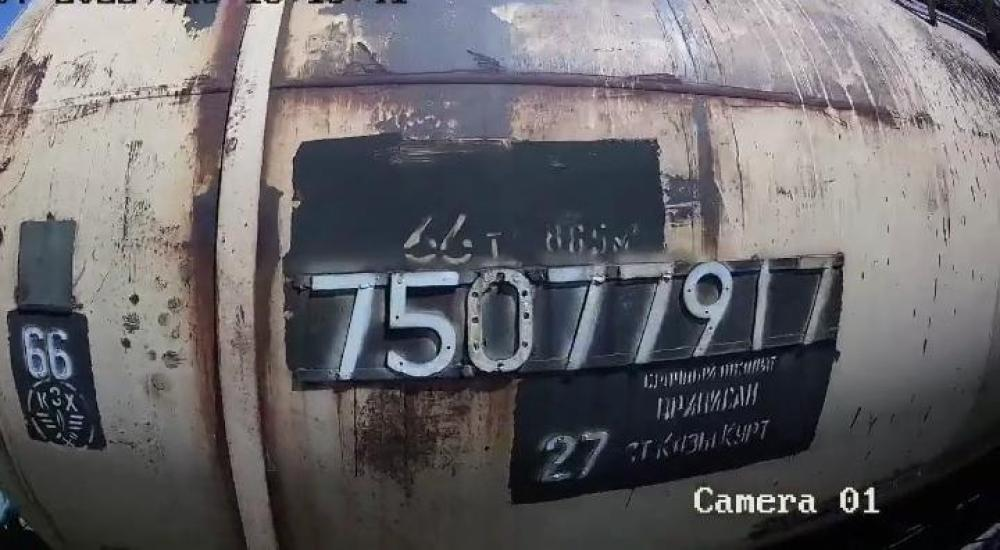Wagon-number: (298, 247, 851, 386)
